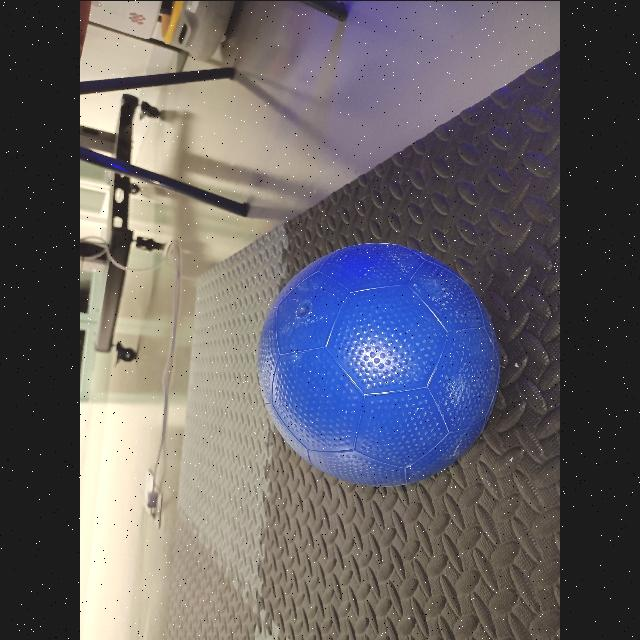B: (250, 246, 510, 492)
